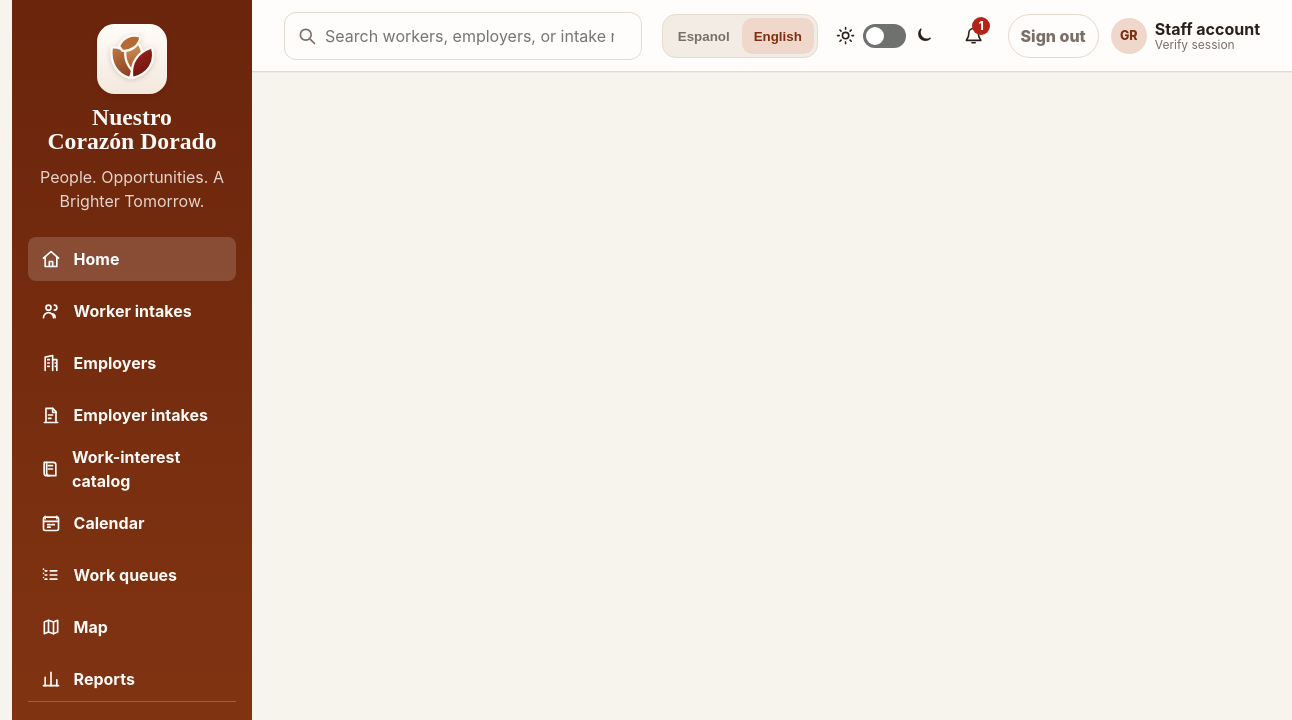
it: AppShell › shows the authorized urgent-work count and opens the urgent queue
The width and height of the screenshot is (1292, 720).
Click the button named "Open urgent work queue: 1 urgent item" at (974,36), box [952,14,996,58]
(page scrolled)
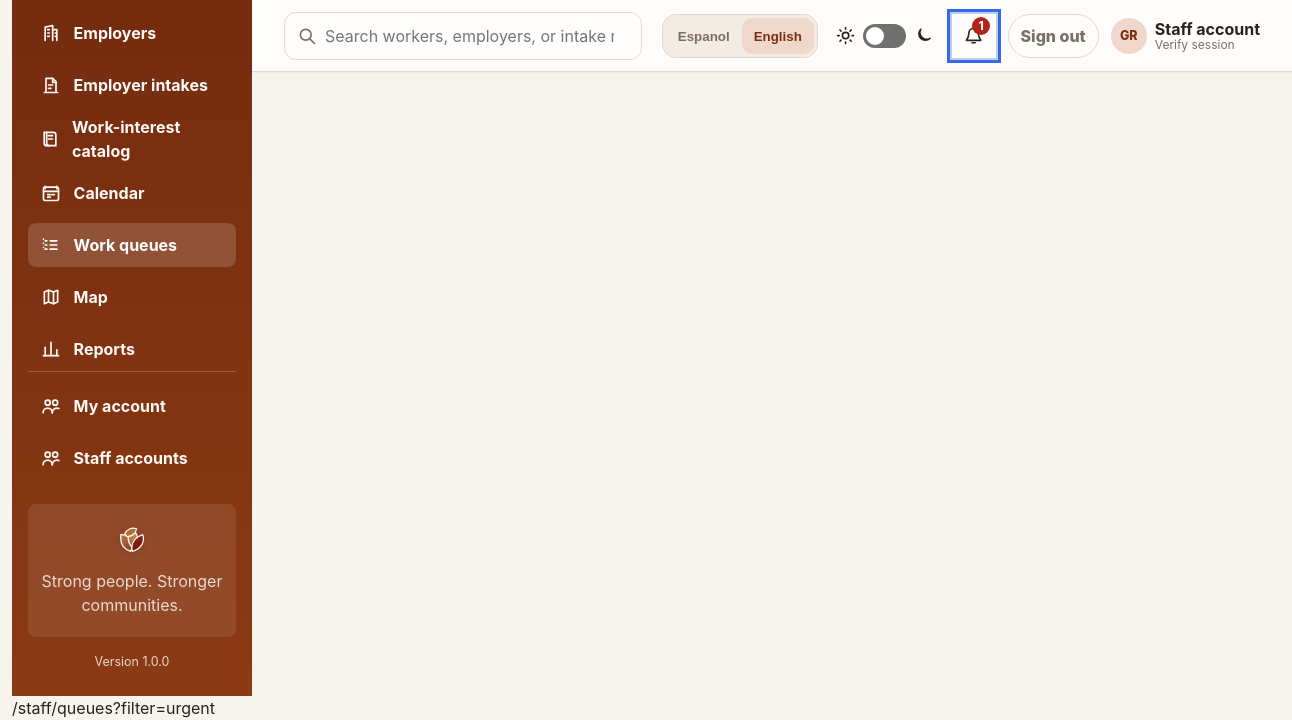
Expected: the text with test id "location-observer" reads "/staff/queues?filter=urgent", [12,698,215,718]
